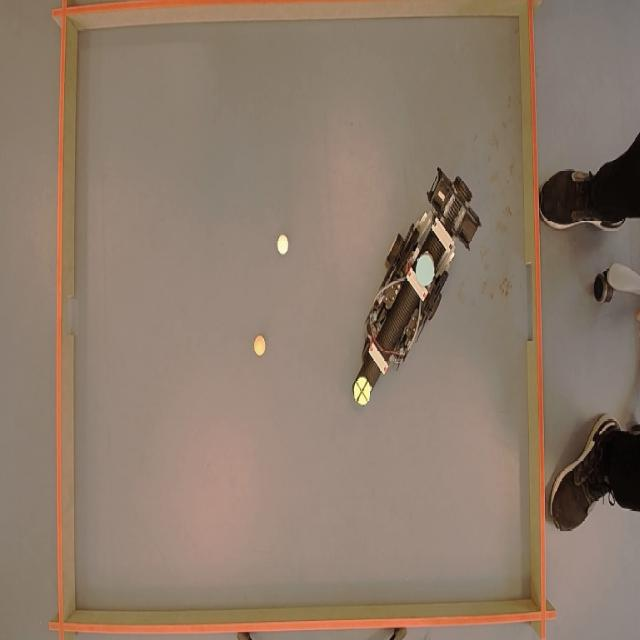orange: (253, 338, 267, 357)
robot: (354, 161, 482, 409)
robot-front: (354, 377, 372, 408)
robot-rear: (414, 252, 434, 286)
white: (275, 234, 289, 254)
